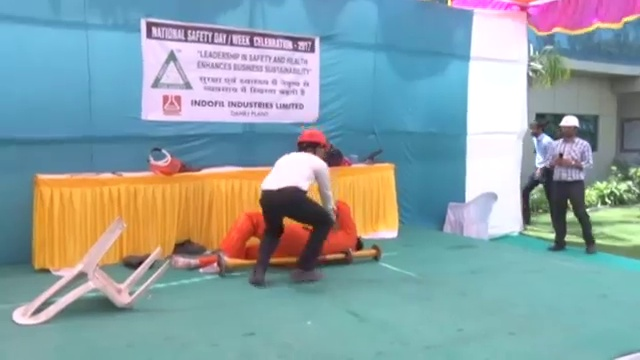helmet: (296, 128, 329, 151), (559, 114, 581, 128)
helmet_off: (528, 116, 545, 138)
helmet_on: (295, 127, 329, 163), (558, 115, 581, 142)
person: (250, 127, 338, 289), (171, 211, 366, 269), (549, 115, 599, 255), (521, 114, 556, 228)
